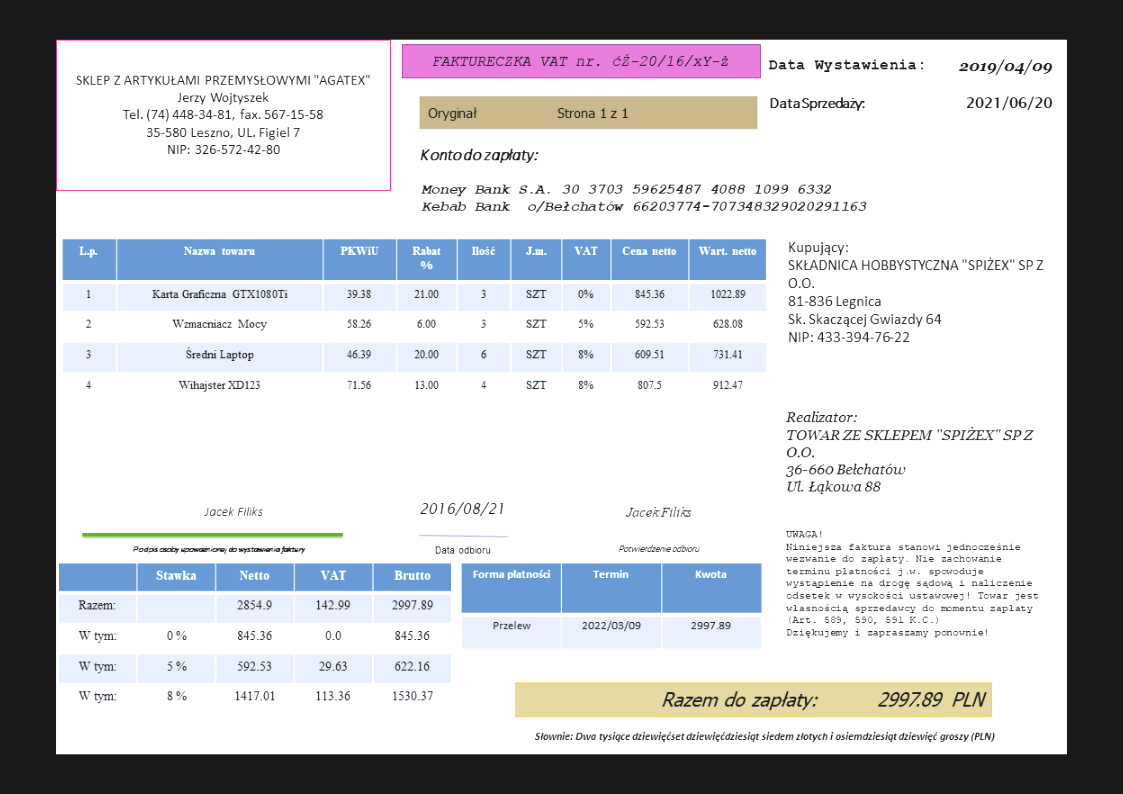Table: (61, 236, 769, 404), (57, 561, 453, 716), (459, 560, 764, 650)
TextBox: (784, 237, 1049, 348), (782, 527, 1042, 640), (71, 69, 373, 158), (782, 408, 1037, 497), (418, 180, 869, 215), (531, 727, 998, 746), (658, 687, 989, 712), (430, 52, 732, 69), (425, 103, 631, 124), (765, 55, 926, 74), (130, 541, 307, 558), (416, 143, 541, 167), (765, 93, 867, 114), (415, 498, 506, 520), (955, 59, 1056, 78), (964, 93, 1052, 114), (621, 501, 694, 521), (614, 541, 703, 556), (201, 502, 267, 520), (432, 543, 493, 556)
